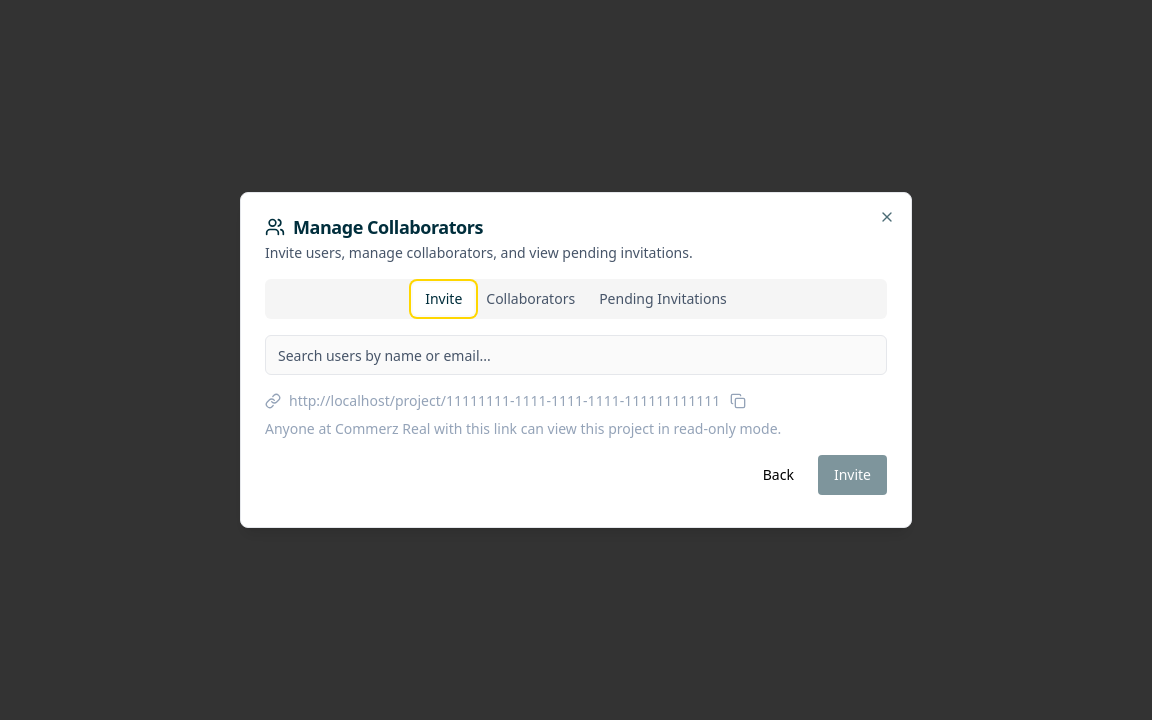
Test: UI-COLLAB.02: Invite tab search and invite › shows search results after typing (debounced)
In the dropdown with test id "invite-search-input": (576, 355) x1=265 y1=335 x2=887 y2=375, type "Ali"
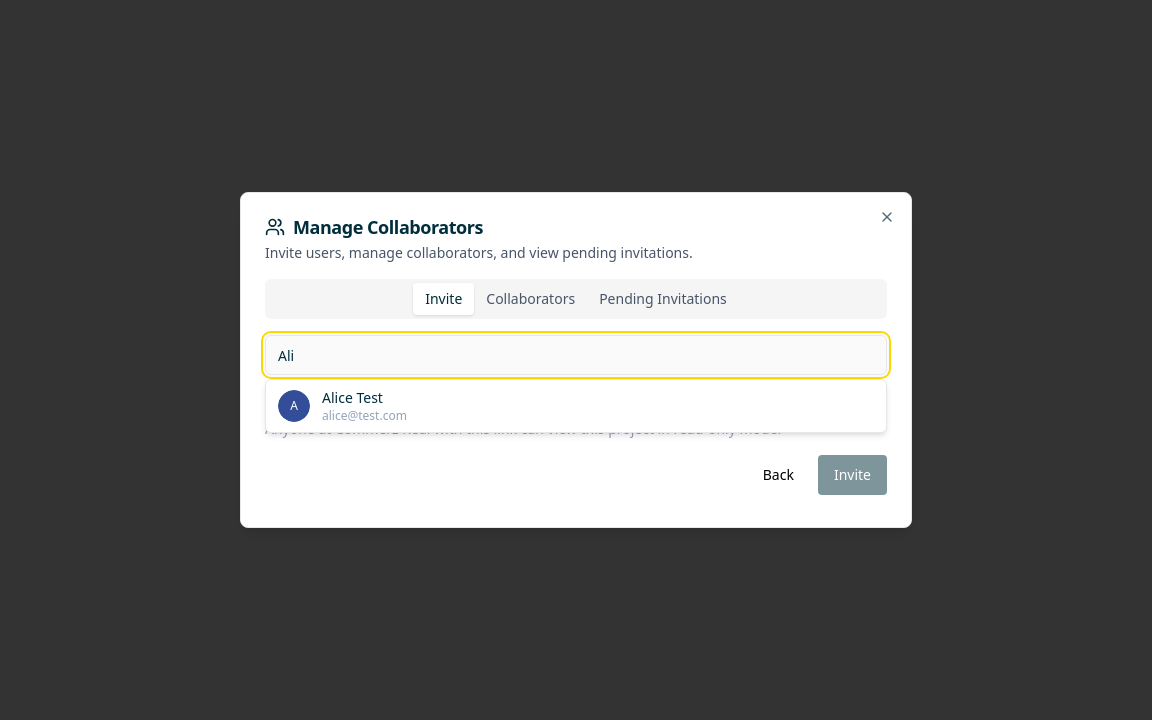
Now the text "Alice Test" is shown, box x1=322 y1=388 x2=383 y2=407
Now the text "alice@test.com" is shown, box x1=322 y1=407 x2=407 y2=424
